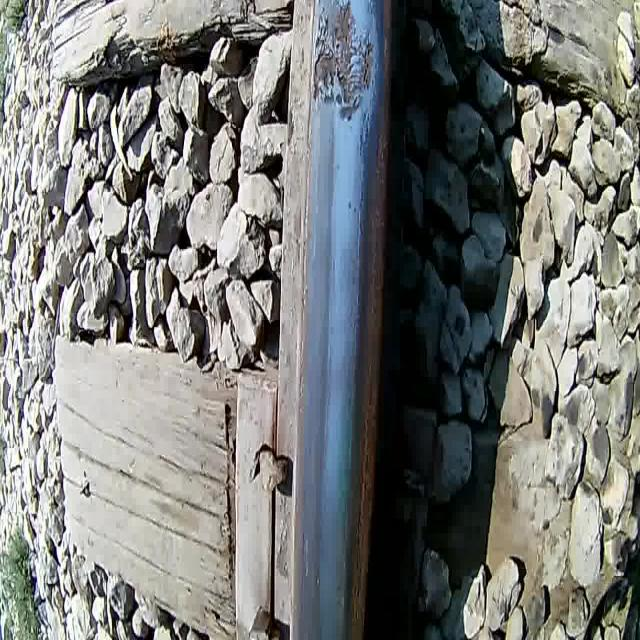Cracks: (309, 7, 328, 109), (356, 25, 376, 92), (357, 105, 374, 159)
Spallings: (319, 0, 357, 123)
Squats: (306, 3, 383, 127)
